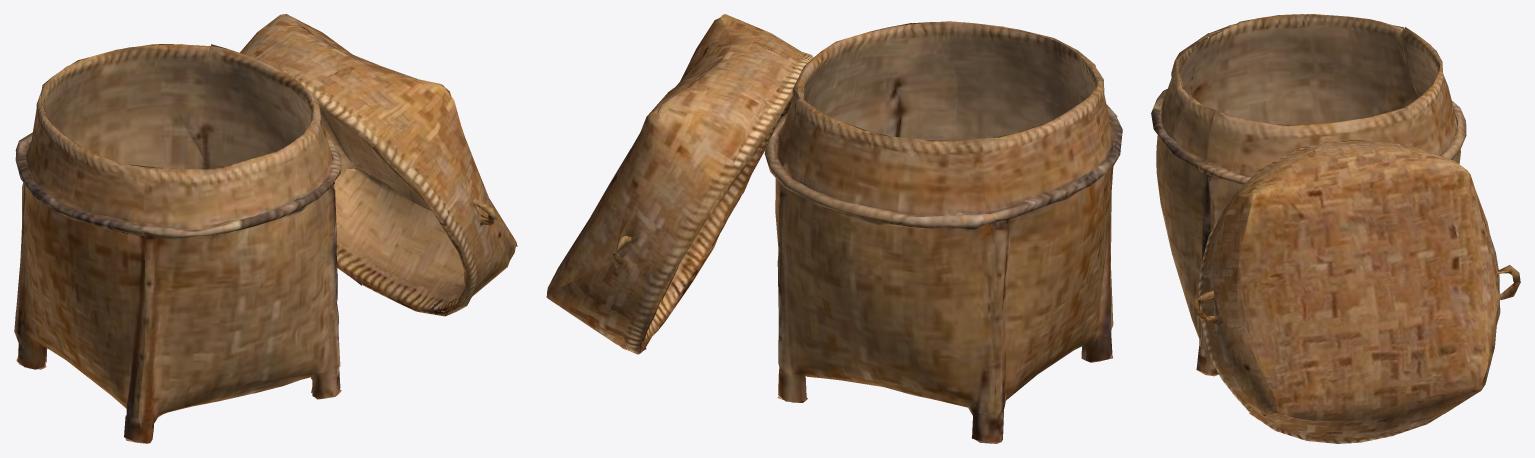
The model's file is basket_lidded.glb.
3 views of the same model, side by side, from view 1: azimuth 30°, elevation 25°; view 2: azimuth 150°, elevation 25°; view 3: azimuth 270°, elevation 25° (orthographic). The views are drawn at different scales.
Parts seen in each view (by area): view 1: wicker_basket_02_base; view 2: wicker_basket_02_base; view 3: wicker_basket_02_base.
Boxes of the visible parts, x1,y1,x2,y2 form: wicker_basket_02_base: [14, 14, 517, 443]; wicker_basket_02_base: [546, 14, 1122, 443]; wicker_basket_02_base: [1151, 14, 1520, 443].
Bounding box in the file's own units: 0.3466 × 0.2008 × 0.2544.
1 material, 1 textured.
